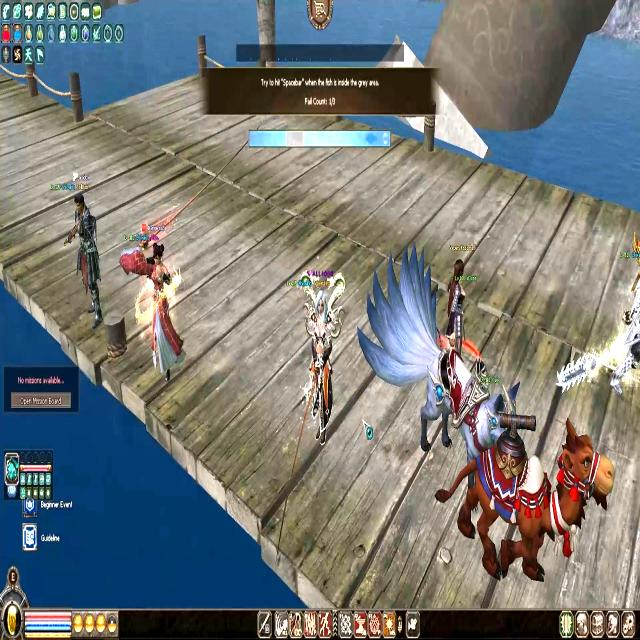fishes: (364, 130, 380, 146)
